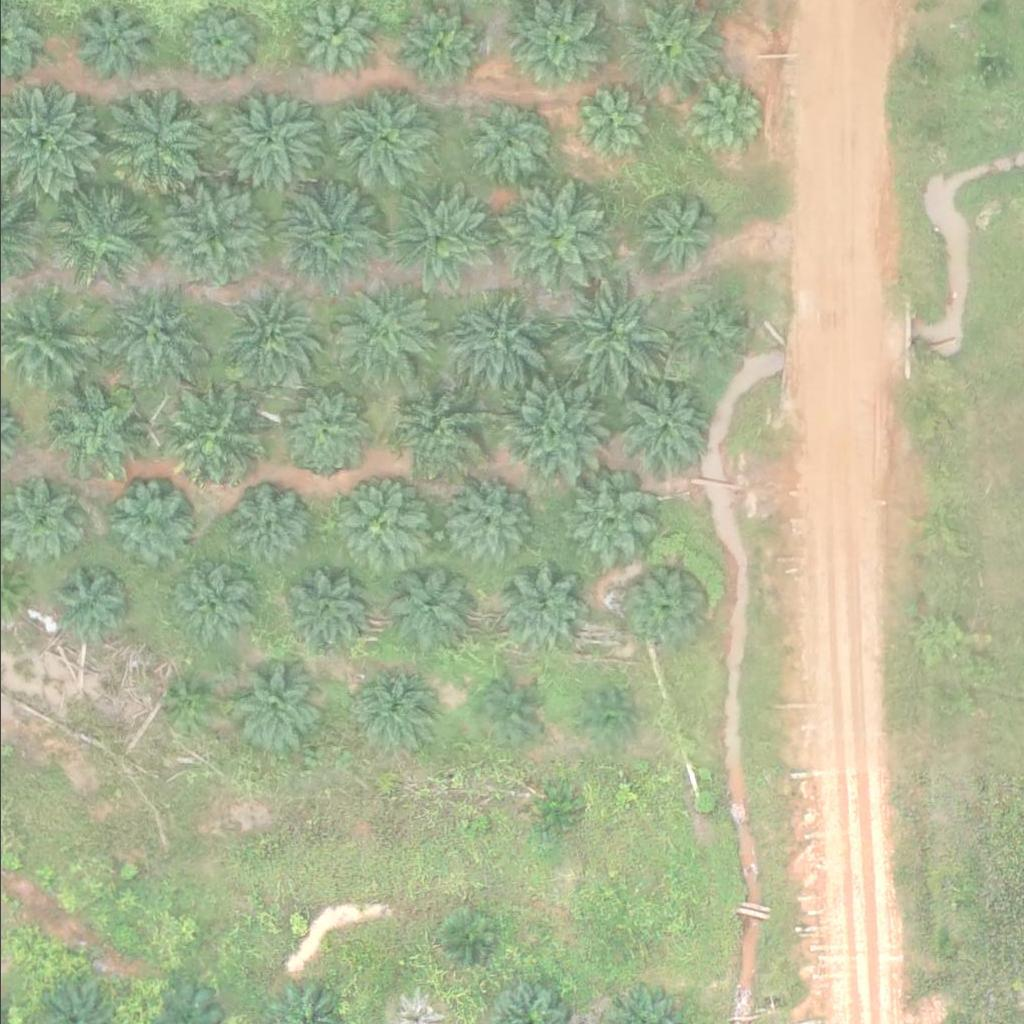Kelapa_Sawit: (553, 281, 678, 406), (501, 183, 614, 296), (382, 188, 495, 301), (273, 182, 386, 295), (154, 182, 268, 294), (96, 85, 210, 197), (447, 296, 548, 396), (332, 286, 433, 386), (211, 286, 312, 386), (501, 384, 602, 484), (385, 376, 486, 476), (162, 390, 263, 490), (41, 385, 142, 485), (336, 92, 436, 192), (222, 95, 322, 195), (101, 289, 201, 389), (50, 185, 150, 285), (335, 482, 424, 570), (616, 385, 704, 473), (281, 386, 369, 474), (224, 482, 312, 570), (104, 481, 192, 569), (349, 665, 437, 753), (629, 192, 718, 279), (677, 80, 765, 167), (171, 3, 259, 90), (562, 476, 650, 563), (437, 478, 525, 565), (495, 566, 583, 653), (382, 564, 470, 651), (280, 564, 368, 651), (162, 558, 250, 645), (230, 665, 318, 752), (628, 571, 704, 646), (398, 8, 474, 83), (294, 3, 370, 78), (465, 110, 541, 185), (573, 85, 648, 160), (50, 567, 125, 642), (475, 682, 538, 744), (678, 305, 741, 367), (522, 783, 584, 845), (157, 678, 208, 728), (578, 692, 628, 742), (439, 913, 489, 963)
